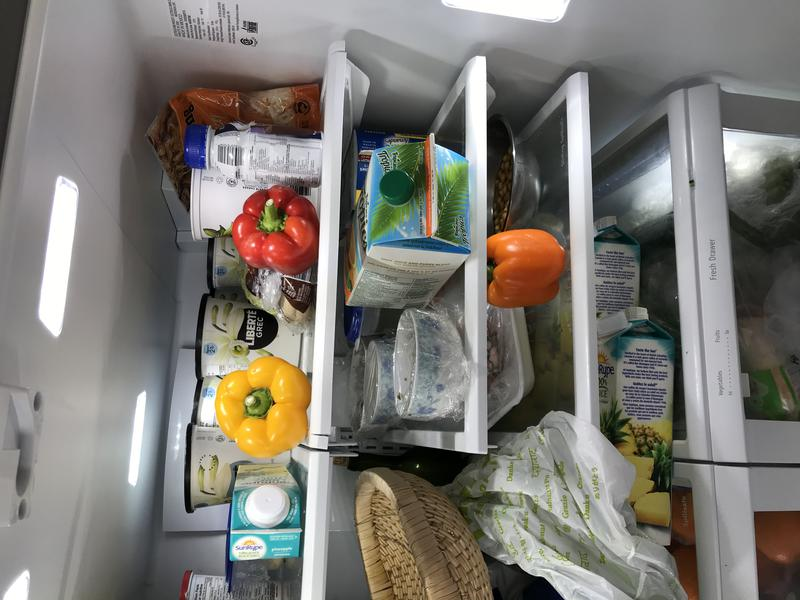orange_pepper: (475, 222, 569, 312)
red_pepper: (225, 181, 325, 279)
yellow_pepper: (206, 350, 313, 460)
